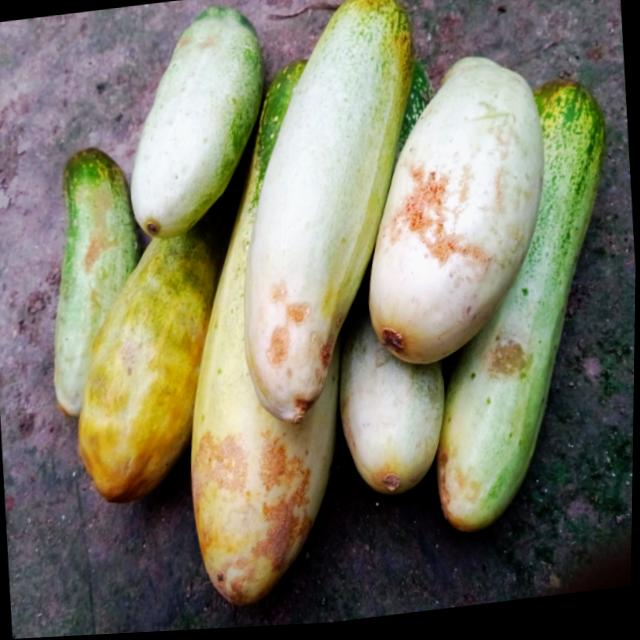Belly-Rot: (172, 424, 328, 616), (386, 157, 495, 279), (252, 272, 342, 394), (73, 184, 119, 279), (483, 336, 535, 390), (428, 450, 462, 522)
